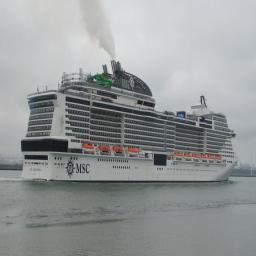cruises: (21, 56, 240, 189)
